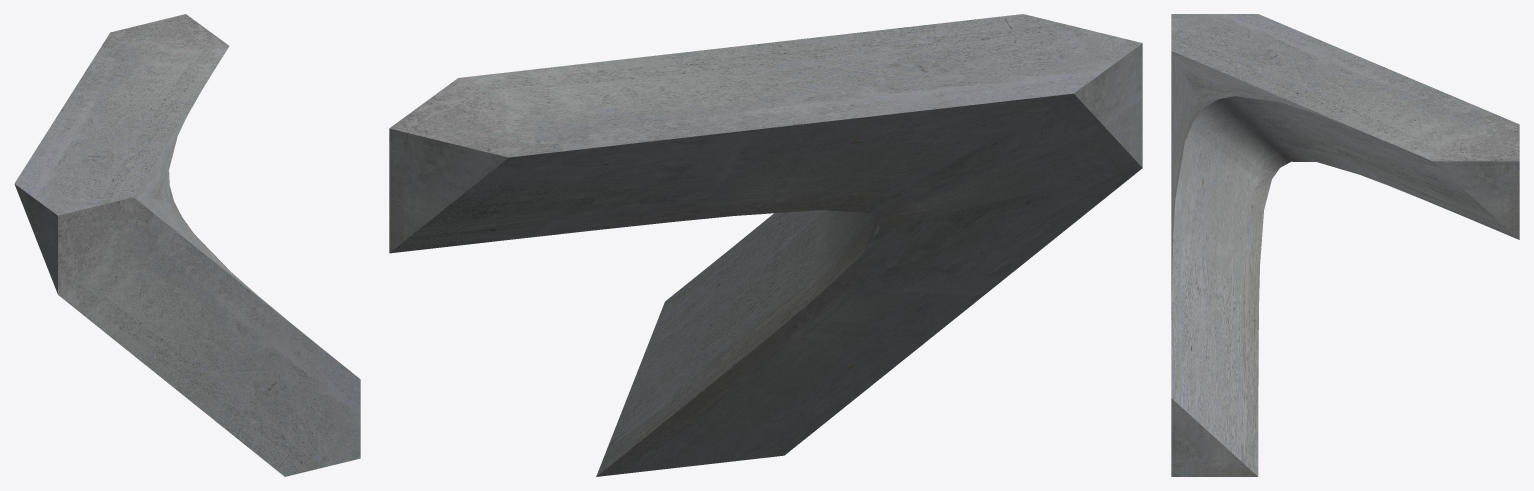
Rendered from module_K1.fbx.
3 renders of one model, left to right at view 1: azimuth 30°, elevation 25°; view 2: azimuth 150°, elevation 25°; view 3: azimuth 270°, elevation 25°, orthographic. The views are drawn at different scales.
Parts seen in each view (by area): view 1: modules; view 2: modules; view 3: modules.
Boxes of the visible parts, <box> form: modules: <box>14,14,360,476</box>; modules: <box>389,14,1142,476</box>; modules: <box>1171,14,1519,476</box>.
Size of the model in its own units: 1000 by 1000 by 1000.
Materials: 1 (1 with a texture image).
